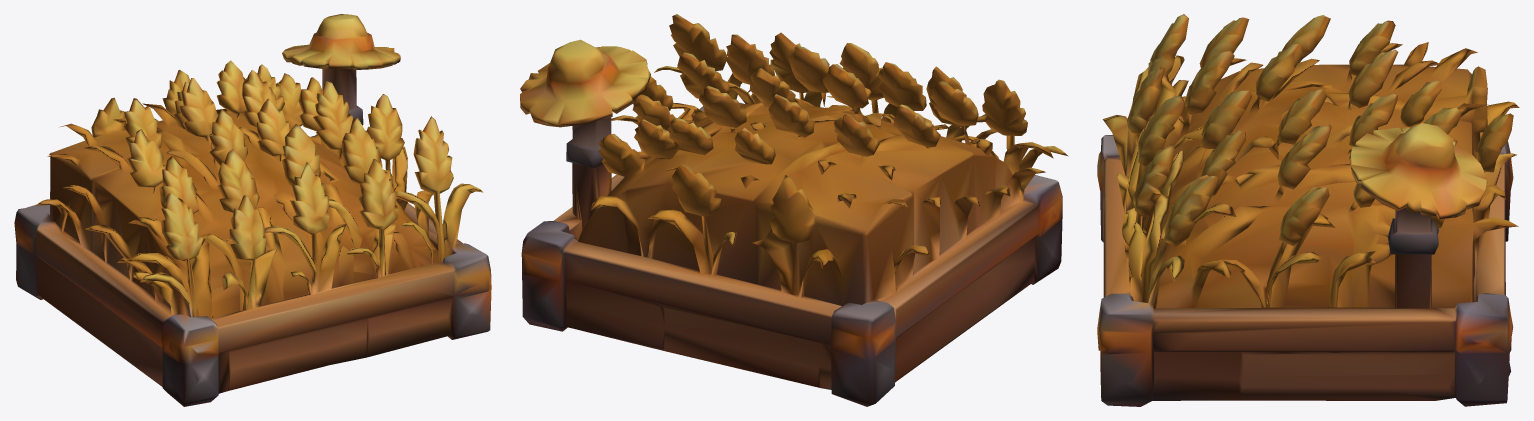
File: field-Bc8fCylU.glb
The picture shows the model from 3 angles, left to right: view 1: azimuth 30°, elevation 25°; view 2: azimuth 150°, elevation 25°; view 3: azimuth 270°, elevation 25°; orthographic projection. The views are drawn at different scales.
Parts seen in each view (by area): view 1: tripo_node_444cbaf5-37e9-4ed7-8c40-57bb7ae662e3; view 2: tripo_node_444cbaf5-37e9-4ed7-8c40-57bb7ae662e3; view 3: tripo_node_444cbaf5-37e9-4ed7-8c40-57bb7ae662e3.
Boxes of the visible parts, <box> form: tripo_node_444cbaf5-37e9-4ed7-8c40-57bb7ae662e3: <box>14,14,491,406</box>; tripo_node_444cbaf5-37e9-4ed7-8c40-57bb7ae662e3: <box>520,14,1068,406</box>; tripo_node_444cbaf5-37e9-4ed7-8c40-57bb7ae662e3: <box>1097,14,1519,406</box>.
Size of the model in its own units: 0.9764 by 0.5725 by 0.8112.
